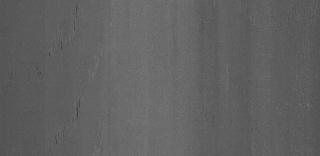silk spot: (50, 7, 90, 47), (82, 44, 108, 92), (58, 99, 98, 129), (86, 124, 115, 156)
